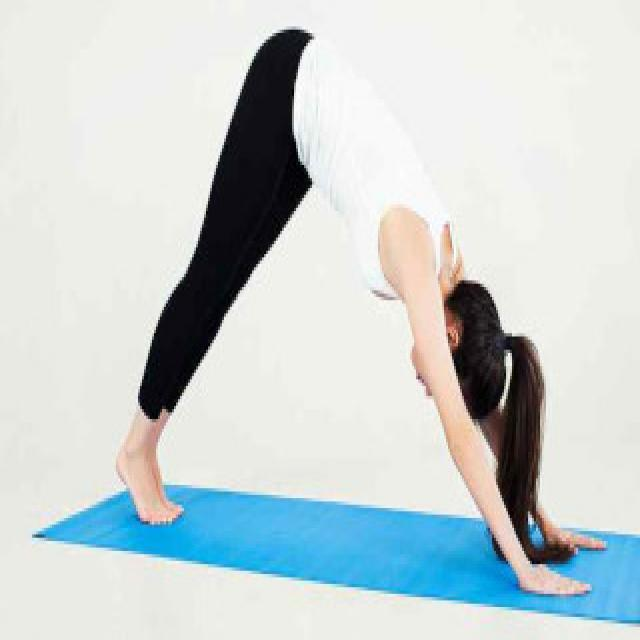yoga-pose downward: (114, 34, 595, 592)
